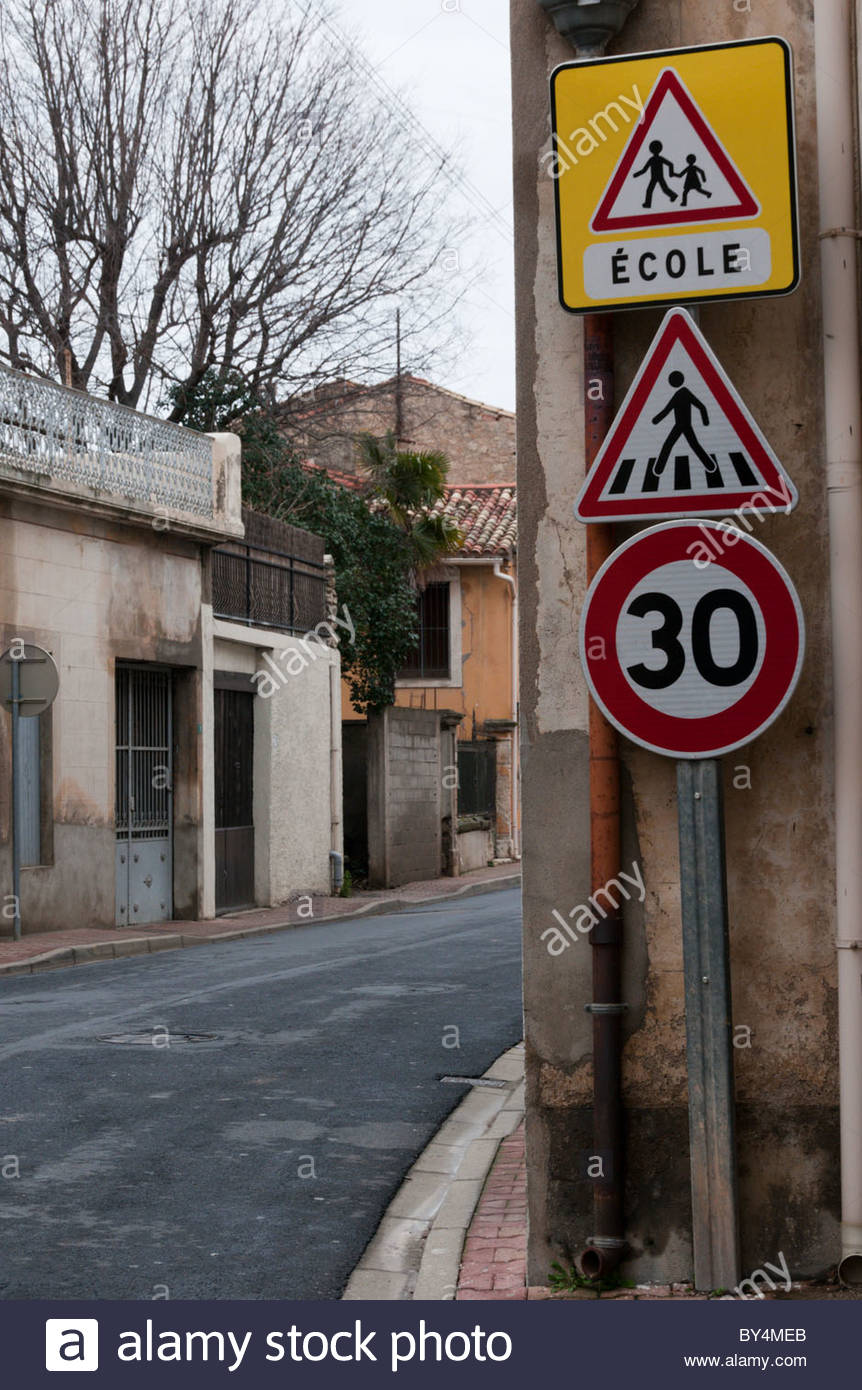speed_limit_30: (581, 523, 805, 764)
